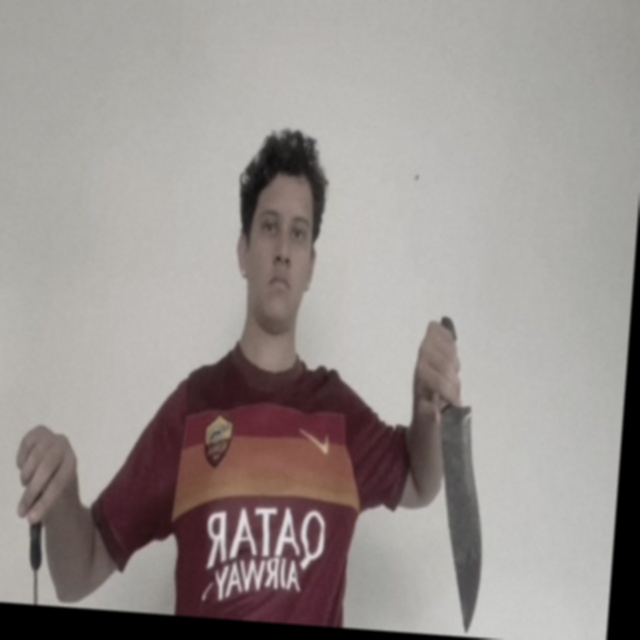Sharp-Object: (425, 402, 493, 636)
